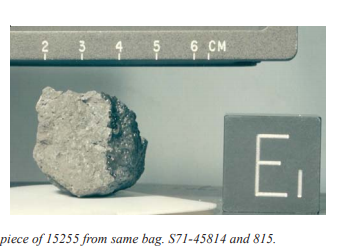Breccia: (21, 75, 171, 200)
